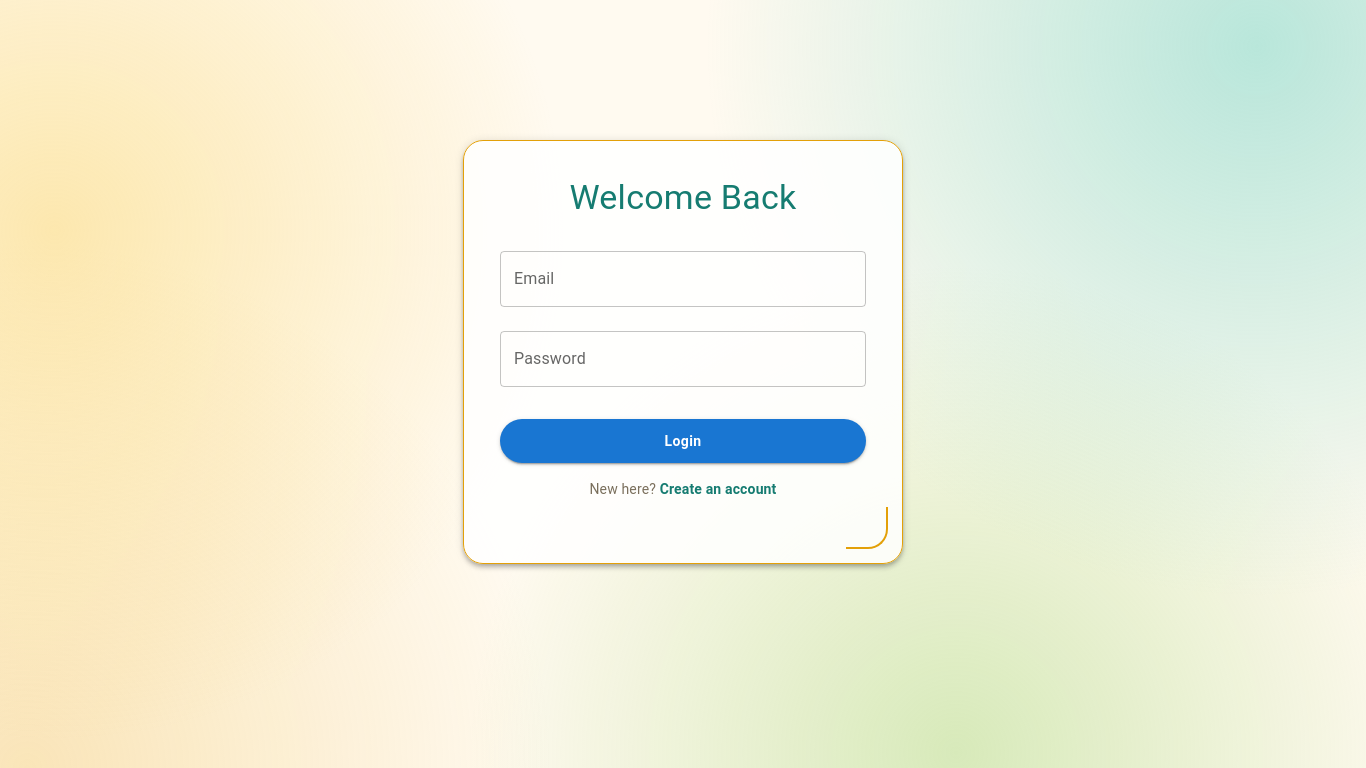
Test: Login › should show required errors when submitting an empty form
Click the button "Login".
click(683, 441)  # box x1=500 y1=419 x2=866 y2=463
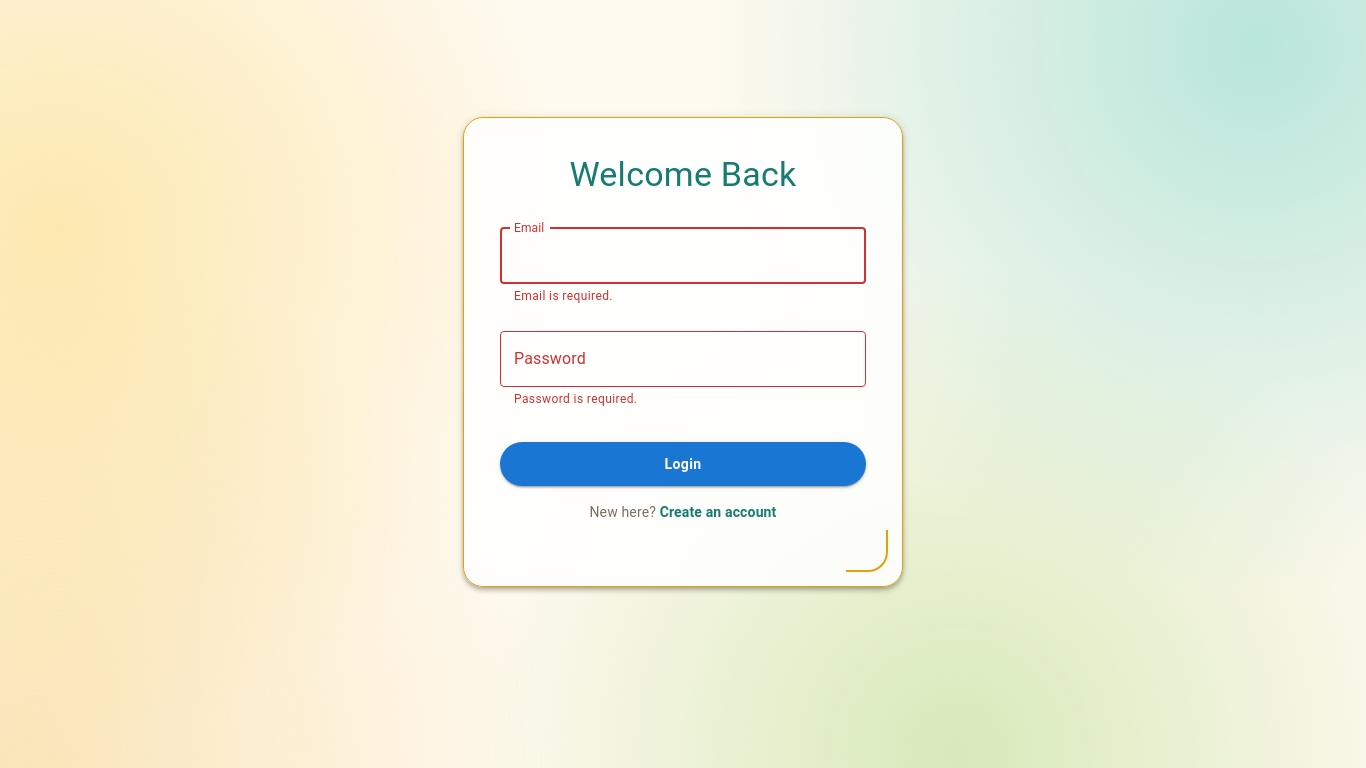
Result: the text "Email is required." is shown at x1=514 y1=289 x2=613 y2=303
Result: the text "Password is required." is shown at x1=514 y1=392 x2=637 y2=406
